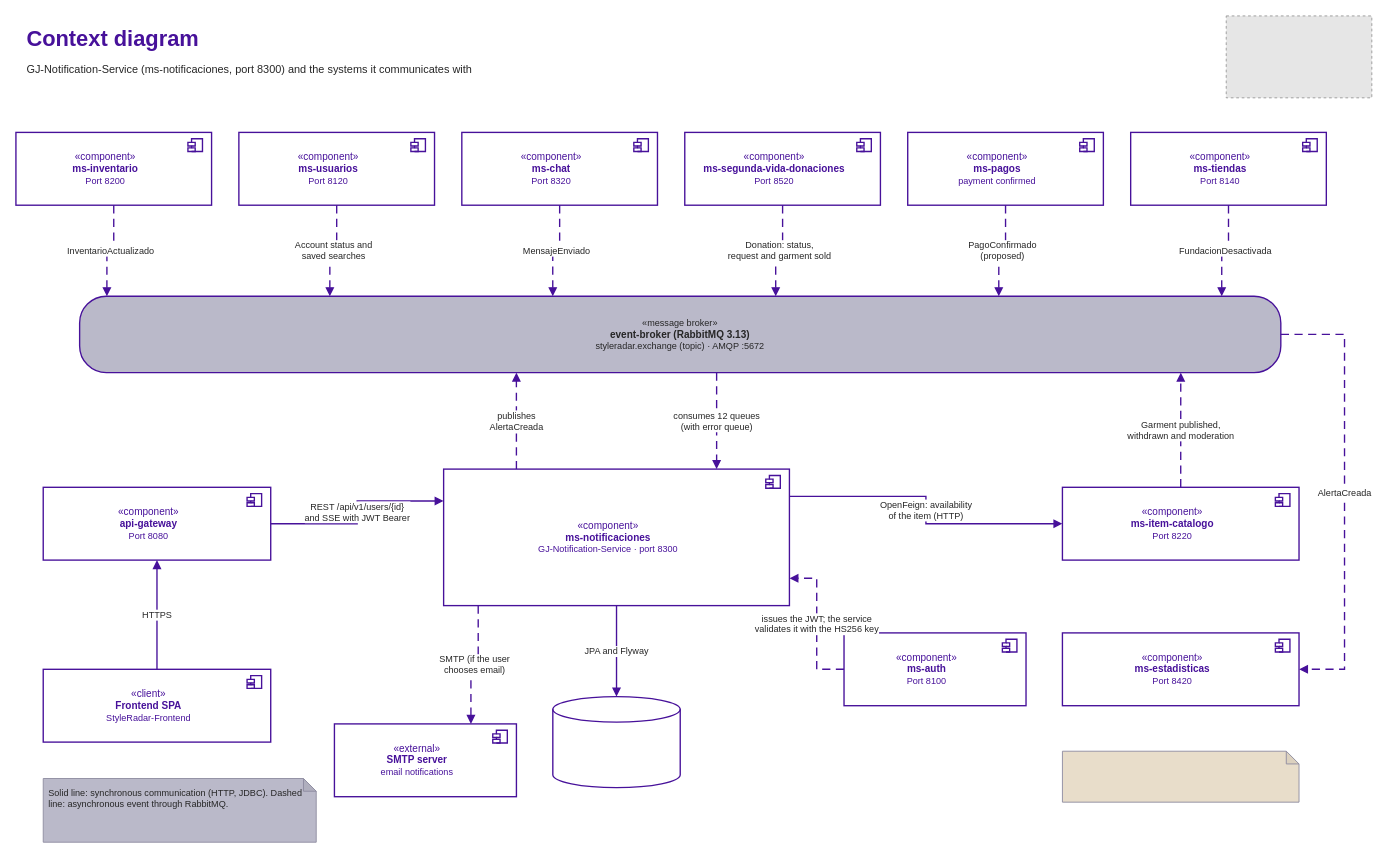
Image size: 1389x858. Some labels were removed from this diagram. Grey dashed boxes stand in for pictures. The centre of each missing label's shape, as x and y in pixels:
notificaciones_db PostgreSQL 16 · :5432: the point at 616,742
Redis 7 (:6379) is in docker-compose, but the service does not use it yet.: the point at 1180,776
